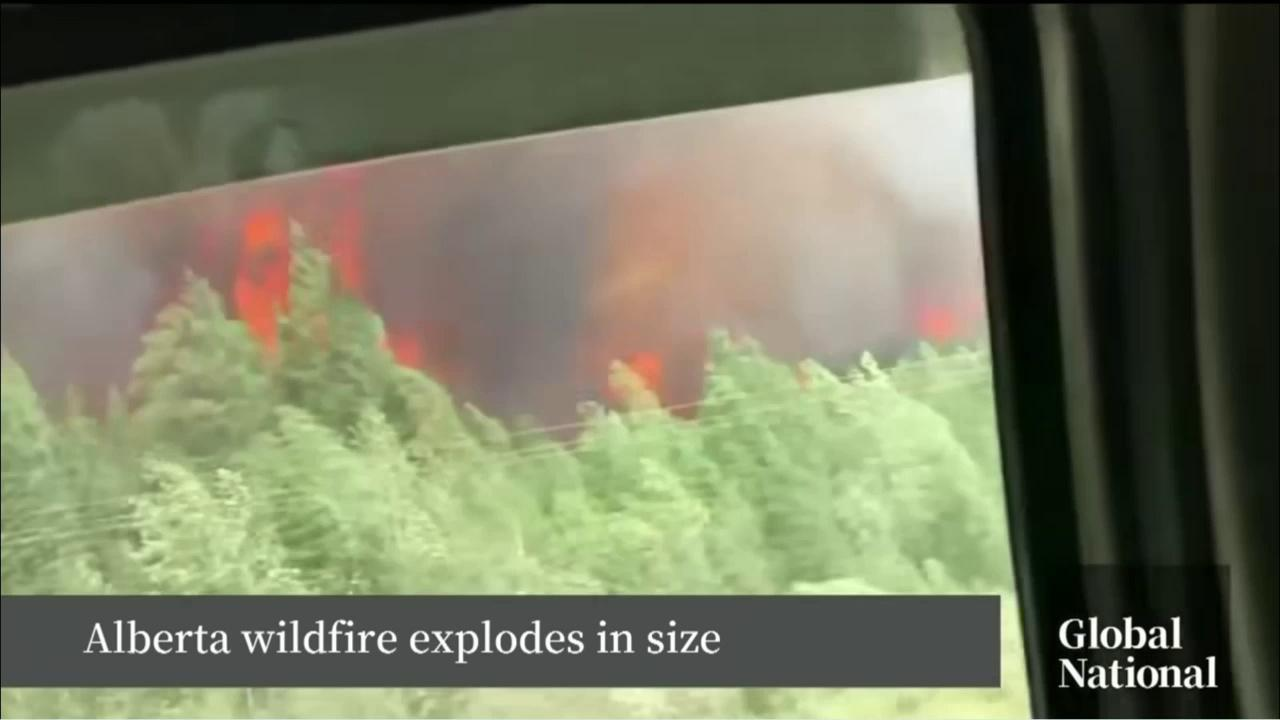fire: (220, 163, 378, 368), (606, 339, 670, 402), (905, 292, 965, 351), (384, 322, 430, 375)
smoke: (1, 69, 983, 451)
